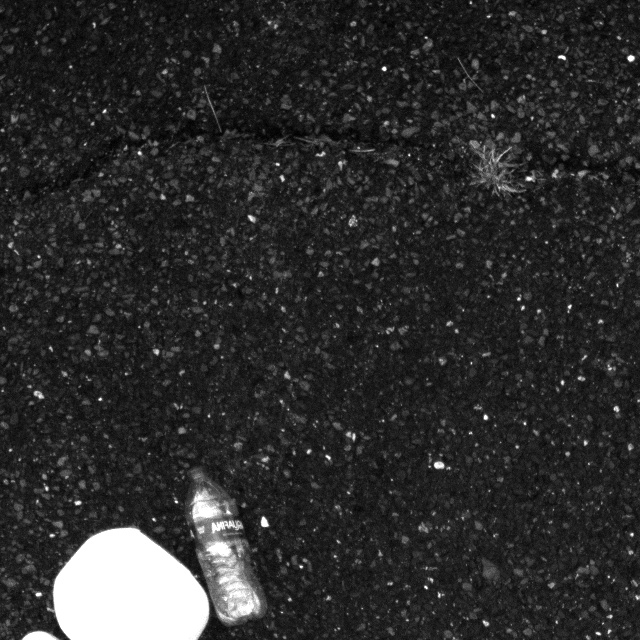bottle: (172, 453, 273, 626)
can: (36, 521, 215, 640)
